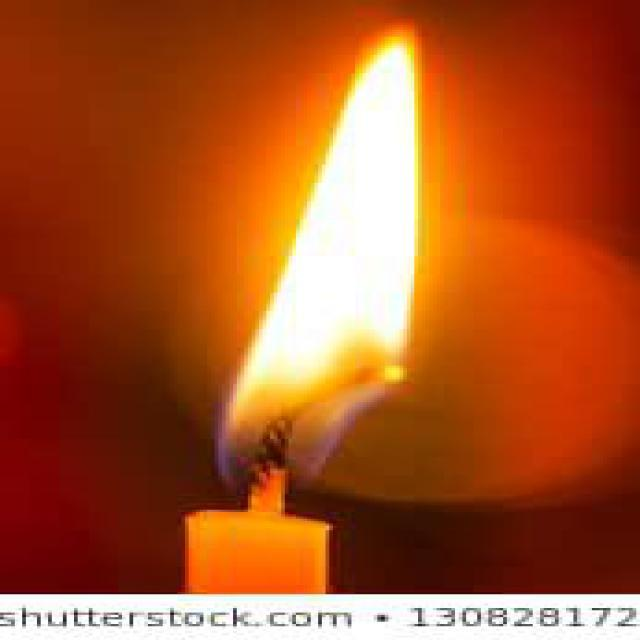Fire: (216, 22, 424, 498)
